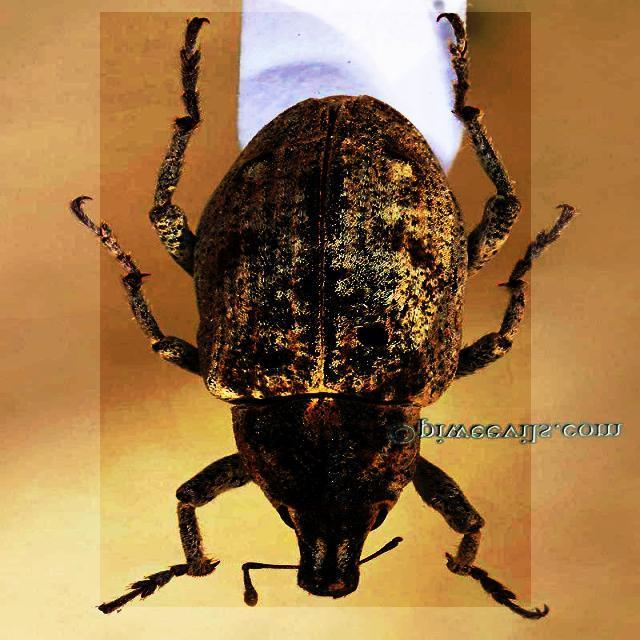rice-bug: (100, 12, 531, 607)
